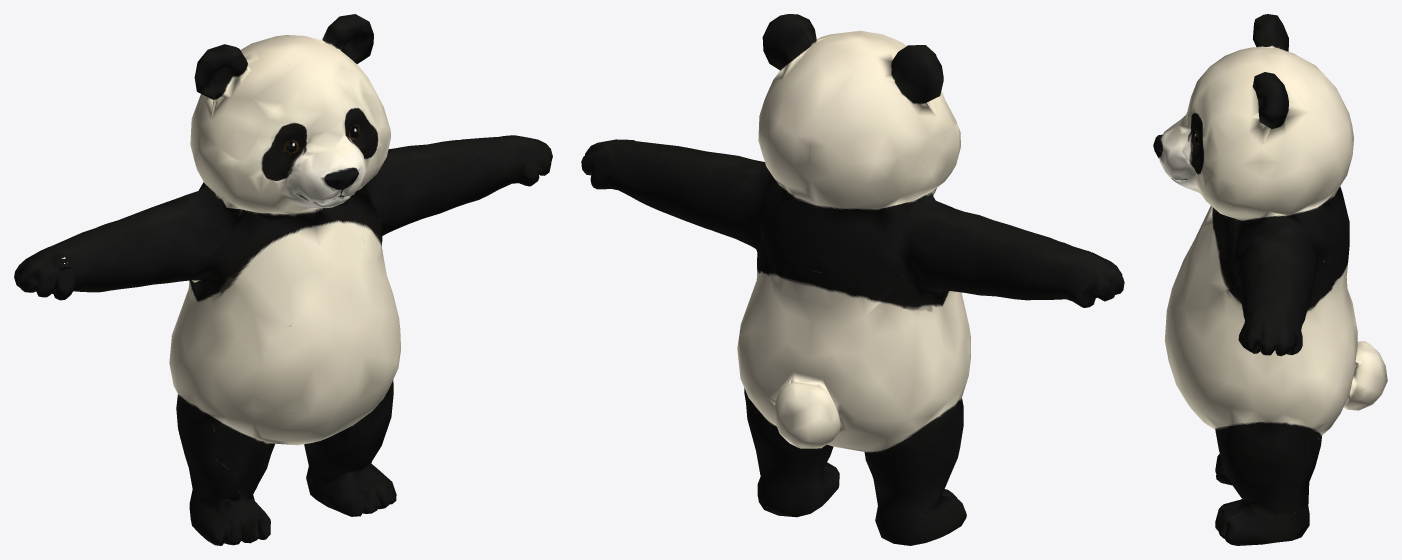
The model's file is panda-edge-pit.glb.
The picture shows the model from 3 angles, left to right: view 1: azimuth 30°, elevation 25°; view 2: azimuth 150°, elevation 25°; view 3: azimuth 270°, elevation 25°; orthographic projection. The views are drawn at different scales.
Parts seen in each view (by area): view 1: pandaedit; view 2: pandaedit; view 3: pandaedit.
Part boxes in pixels (x1=…): pandaedit: x1=14, y1=14, x2=552, y2=545; pandaedit: x1=581, y1=14, x2=1124, y2=545; pandaedit: x1=1153, y1=14, x2=1387, y2=545.
Bounding box in the file's own units: 1.95 × 1.7 × 0.7817.
Materials: 1 (1 with a texture image).
